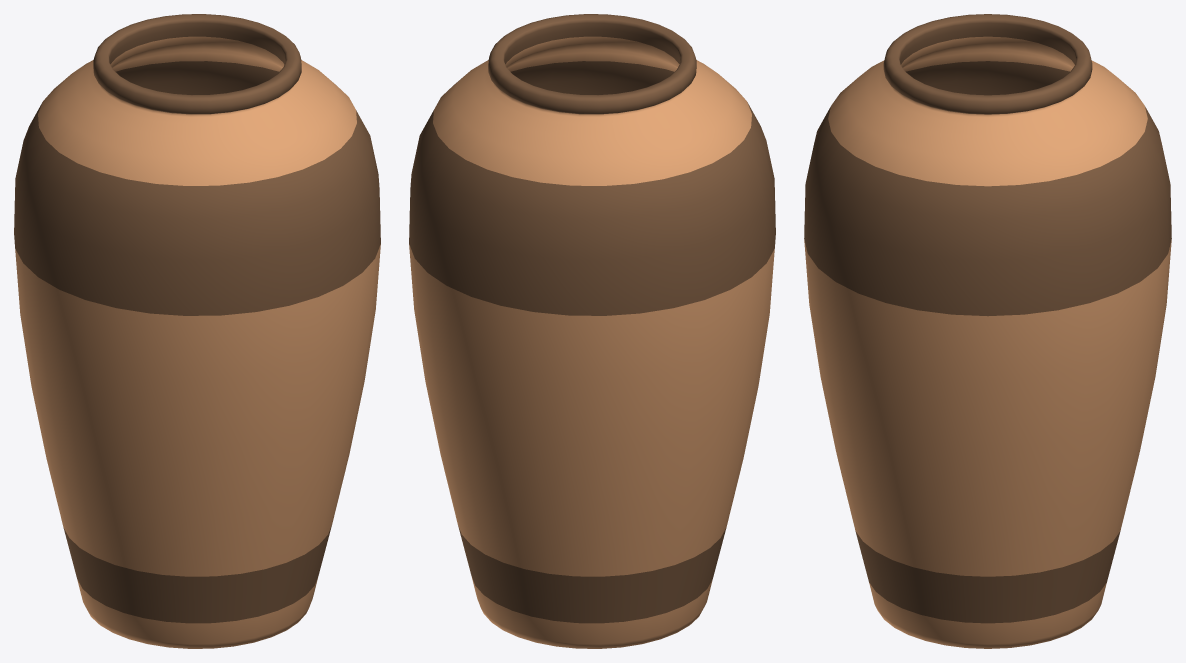
Rendered from Vase4.fbx.
The picture shows the model from 3 angles, left to right: view 1: azimuth 30°, elevation 25°; view 2: azimuth 150°, elevation 25°; view 3: azimuth 270°, elevation 25°; orthographic projection.
Visible parts, largest first — view 1: 4; view 2: 4; view 3: 4.
Boxes of the visible parts, left/top/right/bottom form: 4: left=14, top=14, right=380, bottom=648; 4: left=409, top=14, right=775, bottom=648; 4: left=804, top=14, right=1171, bottom=648.
Bounding box in the file's own units: 0.303 × 0.4978 × 0.303.
